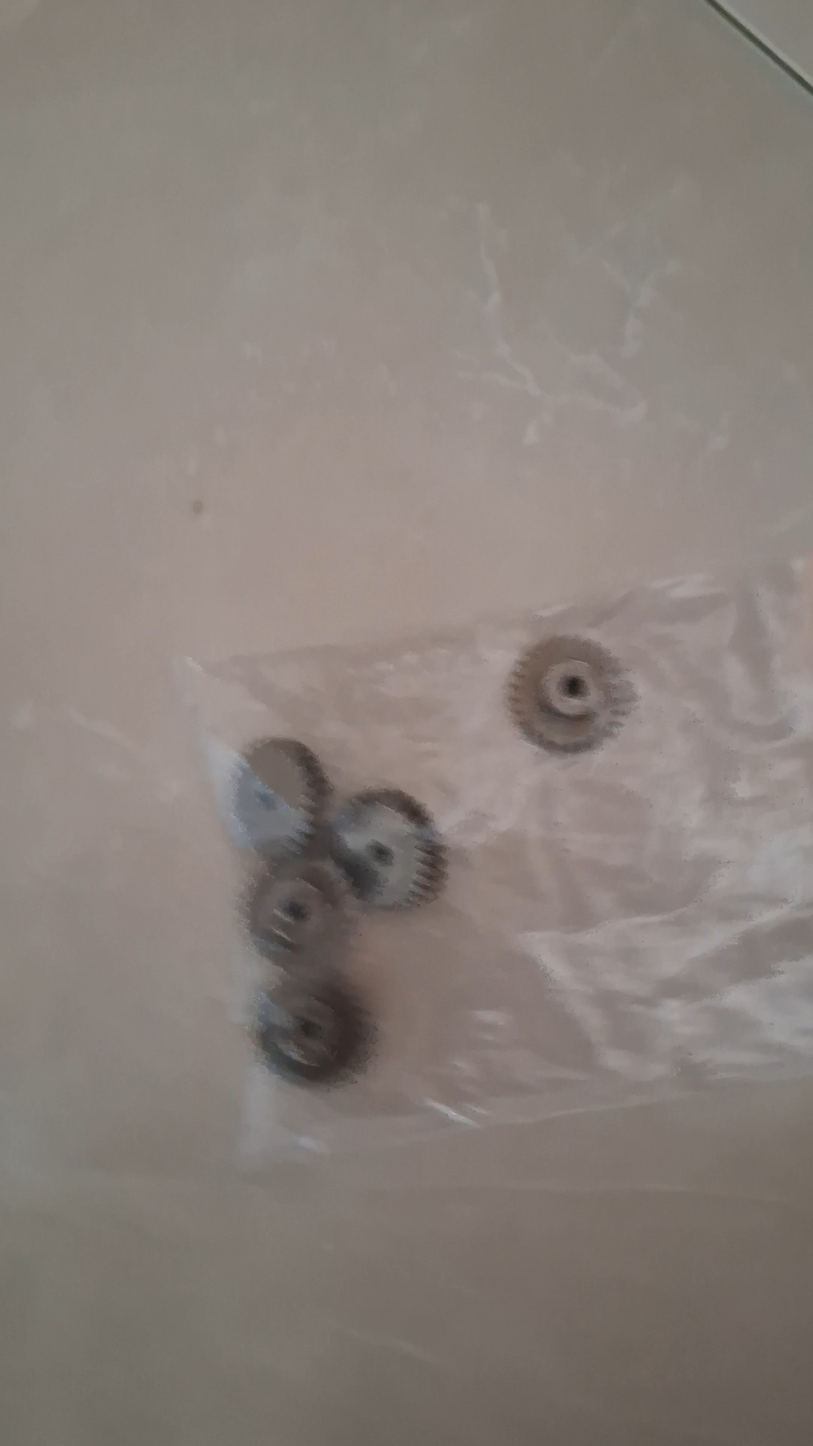spur gear: (508, 636, 633, 752), (326, 790, 445, 908), (254, 976, 371, 1085), (242, 858, 349, 969), (231, 738, 329, 859)
